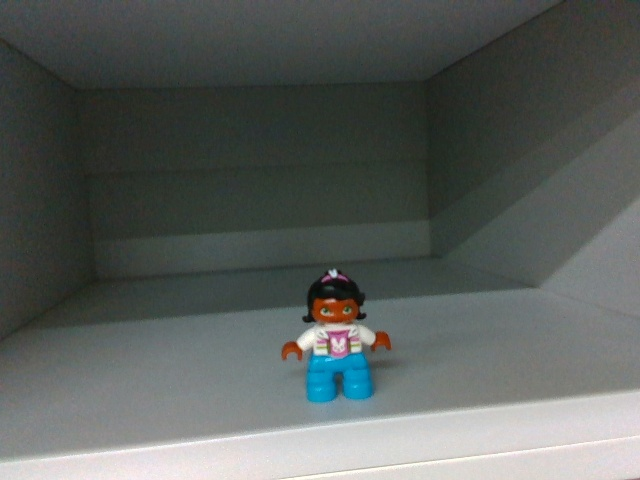people: (275, 269, 396, 403)
